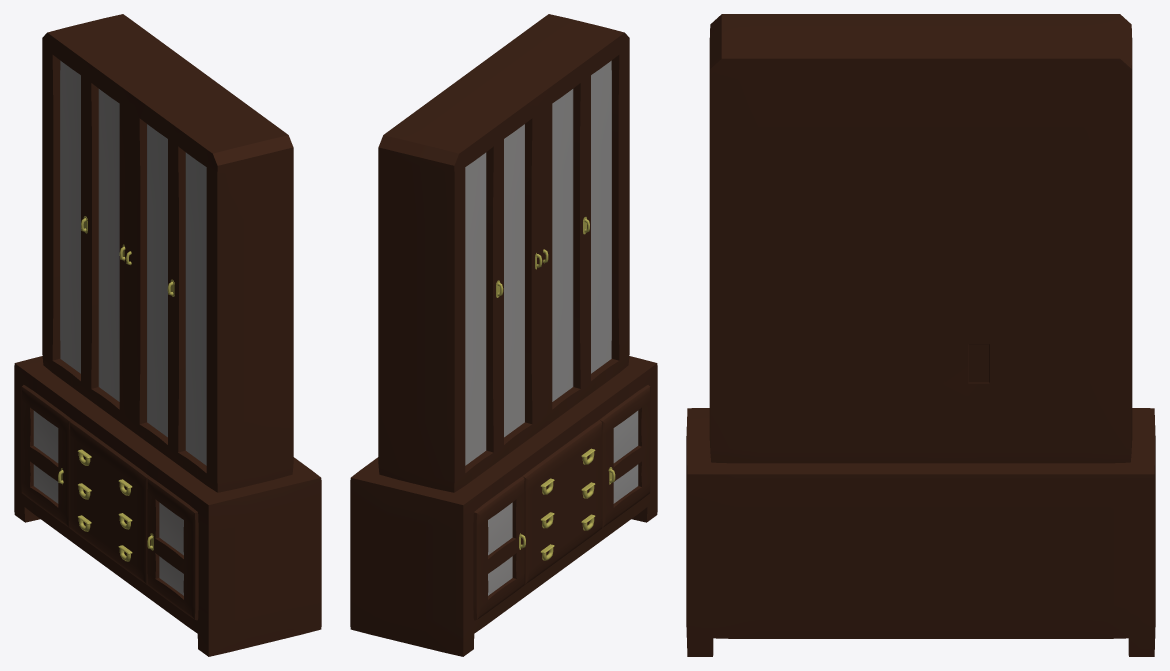
Rendered from china cabnet.fbx.
The picture shows the model from 3 angles, left to right: view 1: azimuth 30°, elevation 25°; view 2: azimuth 150°, elevation 25°; view 3: azimuth 270°, elevation 25°; orthographic projection. The views are drawn at different scales.
Visible parts, largest first — view 1: pCube1; view 2: pCube1; view 3: pCube1.
Part boxes in pixels (box(x1,y1,x2,y2)): pCube1: box(14, 14, 321, 656); pCube1: box(350, 14, 657, 656); pCube1: box(686, 14, 1155, 656).
Size of the model in its own units: 2.37 by 9.02 by 6.52.
